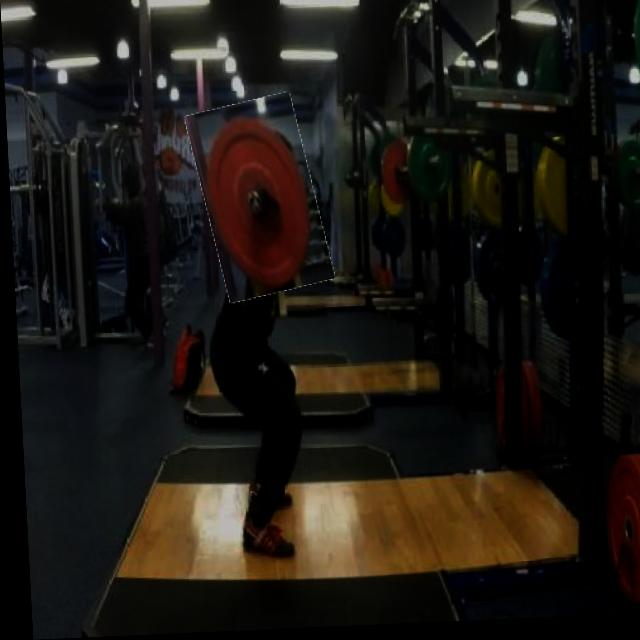barbell: (192, 99, 325, 304)
